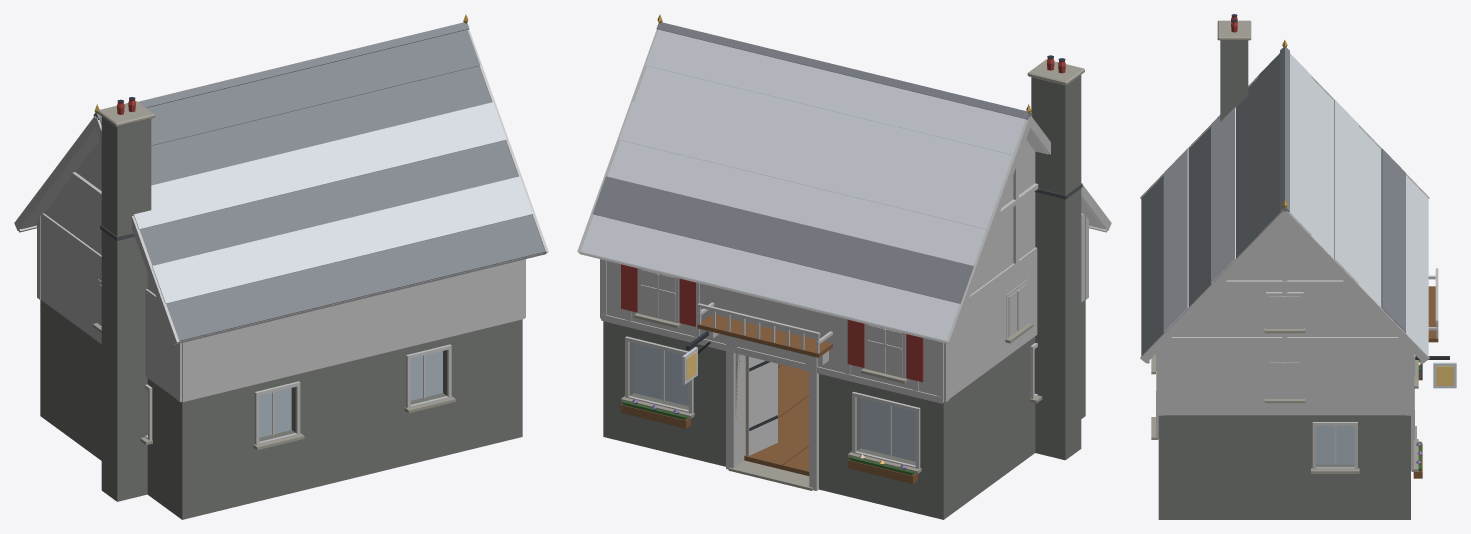
The model's file is TavernHall.obj.
3 renders of one model, left to right at view 1: azimuth 30°, elevation 25°; view 2: azimuth 150°, elevation 25°; view 3: azimuth 270°, elevation 25°, orthographic. The views are drawn at different scales.
Bounding box in the file's own units: 20.64 × 19.82 × 16.3.
